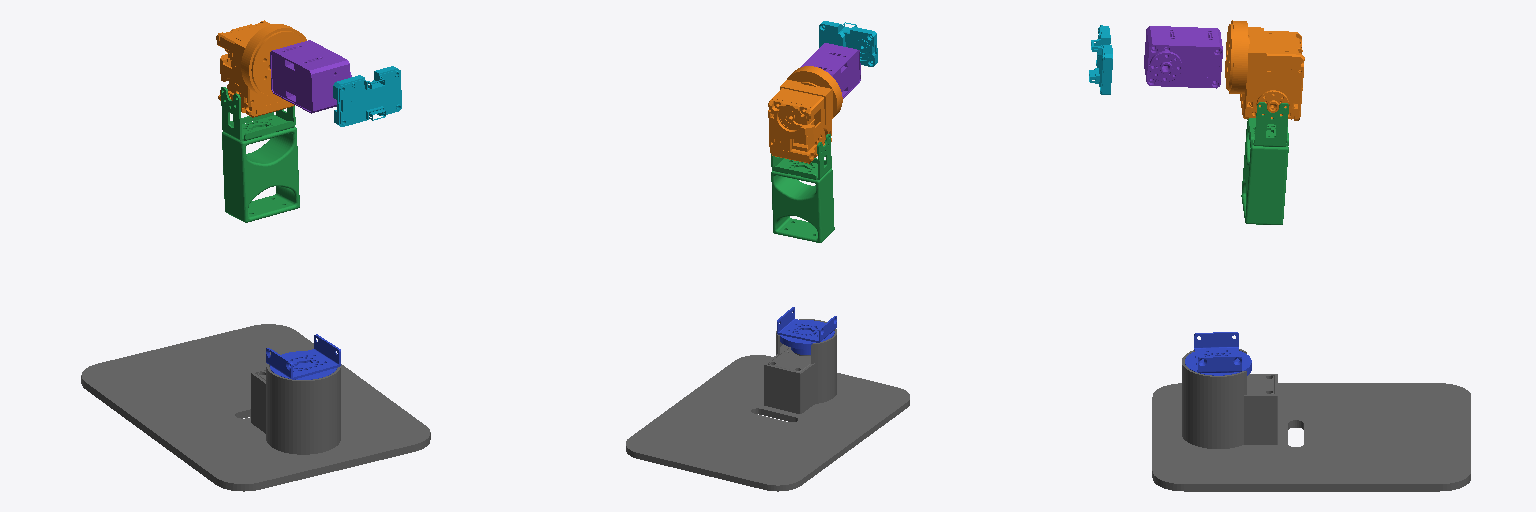
robot.urdf — robot_arm_fusion:
<?xml version="1.0"?>
<robot name="robot_arm_fusion">
  <material name="base_gray"><color rgba="0.45 0.45 0.45 1"/></material>
  <material name="yaw_blue"><color rgba="0.25 0.35 0.85 1"/></material>
  <material name="shoulder_green"><color rgba="0.2 0.65 0.35 1"/></material>
  <material name="upper_orange"><color rgba="0.95 0.55 0.15 1"/></material>
  <material name="forearm_purple"><color rgba="0.55 0.3 0.8 1"/></material>
  <material name="elbow_red"><color rgba="0.85 0.25 0.2 1"/></material>
  <material name="wrist_cyan"><color rgba="0.1 0.7 0.8 1"/></material>

  <link name="base_link">
    <inertial>
      <origin xyz="0 0 0" rpy="0 0 0"/>
      <mass value="0.1"/>
      <inertia ixx="0.0001" ixy="0" ixz="0" iyy="0.0001" iyz="0" izz="0.0001"/>
    </inertial>
    <visual>
      <origin xyz="-0.075 -0.0413 0" rpy="0 -0 0"/>
      <geometry><mesh filename="../cad/exports/fusion_meshes/arm_plate_v2_1.stl" scale="0.001 0.001 0.001"/></geometry>
      <material name="base_gray"/>
    </visual>
    <visual>
      <origin xyz="0.00015 -5e-05 0.022" rpy="-1.57772e-30 2.9525e-15 -3.14159"/>
      <geometry><mesh filename="../cad/exports/fusion_meshes/XM_H-430_idler_1_DUMMY_DC12_1.stl" scale="0.001 0.001 0.001"/></geometry>
      <material name="base_gray"/>
    </visual>
  </link>

  <link name="base_yaw_link">
    <inertial>
      <origin xyz="0 0 0" rpy="0 0 0"/>
      <mass value="0.1"/>
      <inertia ixx="0.0001" ixy="0" ixz="0" iyy="0.0001" iyz="0" izz="0.0001"/>
    </inertial>
    <visual>
      <origin xyz="3.15722e-30 -3.44974e-30 0.055" rpy="-3.14159 -1.58916e-17 -3.08048"/>
      <geometry><mesh filename="../cad/exports/fusion_meshes/arm_thrustA_1.stl" scale="0.001 0.001 0.001"/></geometry>
      <material name="yaw_blue"/>
    </visual>
    <visual>
      <origin xyz="2.45604e-16 1.19547e-16 0.0745" rpy="-3.14159 -2.05163e-15 -3.08048"/>
      <geometry><mesh filename="../cad/exports/fusion_meshes/fr12_s102_k_1.stl" scale="0.001 0.001 0.001"/></geometry>
      <material name="yaw_blue"/>
    </visual>
    <visual>
      <origin xyz="6.33757e-17 1.62178e-16 0.0955" rpy="1.5708 1.18611e-16 1.6319"/>
      <geometry><mesh filename="../cad/exports/fusion_meshes/XM_H-430_idler_2_DUMMY_DC12_1.stl" scale="0.001 0.001 0.001"/></geometry>
      <material name="yaw_blue"/>
    </visual>
  </link>

  <link name="shoulder_pitch_link">
    <inertial>
      <origin xyz="0 0 0" rpy="0 0 0"/>
      <mass value="0.1"/>
      <inertia ixx="0.0001" ixy="0" ixz="0" iyy="0.0001" iyz="0" izz="0.0001"/>
    </inertial>
    <visual>
      <origin xyz="-0.0131998 0.0237966 0.0161501" rpy="1.5019 2.11287e-15 0.061108"/>
      <geometry><mesh filename="../cad/exports/fusion_meshes/fr12_h101_k_1.stl" scale="0.001 0.001 0.001"/></geometry>
      <material name="shoulder_green"/>
    </visual>
    <visual>
      <origin xyz="-0.0347374 0.0401283 0.0971295" rpy="-1.85646e-14 1.5019 -1.50969"/>
      <geometry><mesh filename="../cad/exports/fusion_meshes/arm_part1_1.stl" scale="0.001 0.001 0.001"/></geometry>
      <material name="shoulder_green"/>
    </visual>
    <visual>
      <origin xyz="-0.0136622 0.031355 0.125889" rpy="-1.63969 2.96123e-16 0.061108"/>
      <geometry><mesh filename="../cad/exports/fusion_meshes/fr12_h101_k_2.stl" scale="0.001 0.001 0.001"/></geometry>
      <material name="shoulder_green"/>
    </visual>
  </link>

  <link name="upper_arm_link">
    <inertial>
      <origin xyz="0 0 0" rpy="0 0 0"/>
      <mass value="0.1"/>
      <inertia ixx="0.0001" ixy="0" ixz="0" iyy="0.0001" iyz="0" izz="0.0001"/>
    </inertial>
    <visual>
      <origin xyz="-3.26607e-05 0.000378369 0.00596068" rpy="1.5019 2.51529e-16 0.061108"/>
      <geometry><mesh filename="../cad/exports/fusion_meshes/2XC-430_1_DC14_A01_REF_1.stl" scale="0.001 0.001 0.001"/></geometry>
      <material name="upper_orange"/>
    </visual>
    <visual>
      <origin xyz="0.0155088 0.000501614 -0.00601085" rpy="-3.62933e-15 1.5019 -1.50969"/>
      <geometry><mesh filename="../cad/exports/fusion_meshes/2XC-430_1_DC11_A01_HORN_REF_ASM_1_DC11_A01_HORN_REF_1.stl" scale="0.001 0.001 0.001"/></geometry>
      <material name="upper_orange"/>
    </visual>
    <visual>
      <origin xyz="0.000862446 -0.0142514 0.0190006" rpy="1.5708 -1.5019 1.6319"/>
      <geometry><mesh filename="../cad/exports/fusion_meshes/2XC-430_1_DC11_A01_HORN_REF_ASM_2_DC11_A01_HORN_REF_1.stl" scale="0.001 0.001 0.001"/></geometry>
      <material name="upper_orange"/>
    </visual>
    <visual>
      <origin xyz="0.0011134 -0.0167154 0.0191614" rpy="1.5019 2.51323e-16 0.061108"/>
      <geometry><mesh filename="../cad/exports/fusion_meshes/arm_thrustC_1.stl" scale="0.001 0.001 0.001"/></geometry>
      <material name="upper_orange"/>
    </visual>
    <visual>
      <origin xyz="0.00165447 -0.0271963 0.0198956" rpy="-1.63969 -1.97853e-16 0.061108"/>
      <geometry><mesh filename="../cad/exports/fusion_meshes/arm_thrustB_1.stl" scale="0.001 0.001 0.001"/></geometry>
      <material name="upper_orange"/>
    </visual>
    <visual>
      <origin xyz="0.00284251 -0.0466137 0.021238" rpy="-1.63969 -1.83573e-16 0.061108"/>
      <geometry><mesh filename="../cad/exports/fusion_meshes/fr12_s102_k_2.stl" scale="0.001 0.001 0.001"/></geometry>
      <material name="upper_orange"/>
    </visual>
  </link>

  <link name="forearm_link">
    <inertial>
      <origin xyz="0 0 0" rpy="0 0 0"/>
      <mass value="0.1"/>
      <inertia ixx="0.0001" ixy="0" ixz="0" iyy="0.0001" iyz="0" izz="0.0001"/>
    </inertial>
    <visual>
      <origin xyz="-0.00777806 -0.000424807 -1.63223e-05" rpy="1.5708 -1.5019 1.6319"/>
      <geometry><mesh filename="../cad/exports/fusion_meshes/XC-430_idle_1_DC11_B01_CASE_M_DUMMY_1.stl" scale="0.001 0.001 0.001"/></geometry>
      <material name="forearm_purple"/>
    </visual>
    <visual>
      <origin xyz="-0.00777806 -0.000424807 -1.63223e-05" rpy="1.5708 -1.5019 1.6319"/>
      <geometry><mesh filename="../cad/exports/fusion_meshes/XC-430_idle_1_DC11_B01_CASE_F_DUMMY_1.stl" scale="0.001 0.001 0.001"/></geometry>
      <material name="forearm_purple"/>
    </visual>
    <visual>
      <origin xyz="-0.00777806 -0.000424807 -1.63223e-05" rpy="1.5708 -1.5019 1.6319"/>
      <geometry><mesh filename="../cad/exports/fusion_meshes/XC-430_idle_1_DC11_B01_CASE_B_DUMMY2_1.stl" scale="0.001 0.001 0.001"/></geometry>
      <material name="forearm_purple"/>
    </visual>
    <visual>
      <origin xyz="0.00769301 0.000521777 -1.63223e-05" rpy="-6.34185e-14 -0.0688963 -1.50969"/>
      <geometry><mesh filename="../cad/exports/fusion_meshes/XC-430_idle_1_M_DC11_A01_HORN_ASM_1_M_DC11_A01_HORN_1.stl" scale="0.001 0.001 0.001"/></geometry>
      <material name="forearm_purple"/>
    </visual>
    <visual>
      <origin xyz="-0.0264834 -0.0303827 -0.0100603" rpy="1.5019 6.32561e-14 0.061108"/>
      <geometry><mesh filename="../cad/exports/fusion_meshes/arm_hand_v2_1.stl" scale="0.001 0.001 0.001"/></geometry>
      <material name="forearm_purple"/>
    </visual>
    <visual>
      <origin xyz="-0.00777806 -0.000424807 -1.63223e-05" rpy="0.0688963 -6.3055e-14 -3.08048"/>
      <geometry><mesh filename="../cad/exports/fusion_meshes/fr12_h101_k_3.stl" scale="0.001 0.001 0.001"/></geometry>
      <material name="forearm_purple"/>
    </visual>
  </link>

  <link name="elbow_roll_link">
    <inertial>
      <origin xyz="0 0 0" rpy="0 0 0"/>
      <mass value="0.1"/>
      <inertia ixx="0.0001" ixy="0" ixz="0" iyy="0.0001" iyz="0" izz="0.0001"/>
    </inertial>
  </link>

  <link name="wrist_pitch_link">
    <inertial>
      <origin xyz="0 0 0" rpy="0 0 0"/>
      <mass value="0.1"/>
      <inertia ixx="0.0001" ixy="0" ixz="0" iyy="0.0001" iyz="0" izz="0.0001"/>
    </inertial>
    <visual>
      <origin xyz="-0.00050996 0.00769539 -0.000536548" rpy="9.26811e-13 -1.5019 1.6319"/>
      <geometry><mesh filename="../cad/exports/fusion_meshes/XC-430_idle_2_DC11_B01_CASE_M_DUMMY_1.stl" scale="0.001 0.001 0.001"/></geometry>
      <material name="wrist_cyan"/>
    </visual>
    <visual>
      <origin xyz="-0.00050996 0.00769539 -0.000536548" rpy="9.26846e-13 -1.5019 1.6319"/>
      <geometry><mesh filename="../cad/exports/fusion_meshes/XC-430_idle_2_DC11_B01_CASE_F_DUMMY_1.stl" scale="0.001 0.001 0.001"/></geometry>
      <material name="wrist_cyan"/>
    </visual>
    <visual>
      <origin xyz="-0.00050996 0.00769539 -0.000536548" rpy="9.26805e-13 -1.5019 1.6319"/>
      <geometry><mesh filename="../cad/exports/fusion_meshes/XC-430_idle_2_DC11_B01_CASE_B_DUMMY2_1.stl" scale="0.001 0.001 0.001"/></geometry>
      <material name="wrist_cyan"/>
    </visual>
    <visual>
      <origin xyz="0.000434379 -0.00773898 0.000530501" rpy="0.0688963 -6.54787e-14 -3.08048"/>
      <geometry><mesh filename="../cad/exports/fusion_meshes/XC-430_idle_2_M_DC11_A01_HORN_ASM_1_M_DC11_A01_HORN_1.stl" scale="0.001 0.001 0.001"/></geometry>
      <material name="wrist_cyan"/>
    </visual>
  </link>

  <joint name="base_yaw_joint" type="revolute">
    <parent link="base_link"/>
    <child link="base_yaw_link"/>
    <origin xyz="0 0 0" rpy="0 0 0"/>
    <axis xyz="0 0 1"/>
    <limit lower="-3.14159" upper="3.14159" effort="2.0" velocity="1.0"/>
  </joint>

  <joint name="shoulder_pitch_joint" type="revolute">
    <parent link="base_yaw_link"/>
    <child link="shoulder_pitch_link"/>
    <origin xyz="-0.00005 0.00174 0.10826" rpy="0 0 0"/>
    <axis xyz="1 0 0"/>
    <limit lower="-1.5708" upper="1.5708" effort="2.0" velocity="1.0"/>
  </joint>

  <joint name="upper_arm_roll_joint" type="revolute">
    <parent link="shoulder_pitch_link"/>
    <child link="upper_arm_link"/>
    <origin xyz="-0.0137 0.0318 0.1319" rpy="0 0 0"/>
    <axis xyz="0 0 -1"/>
    <limit lower="-1.5708" upper="1.5708" effort="2.0" velocity="1.0"/>
  </joint>

  <joint name="elbow_pitch_joint" type="revolute">
    <parent link="upper_arm_link"/>
    <child link="forearm_link"/>
    <origin xyz="0.0119 -0.0671 0.0227" rpy="0 0 0"/>
    <axis xyz="0 1 0"/>
    <limit lower="-1.5708" upper="1.5708" effort="2.0" velocity="1.0"/>
  </joint>

  <joint name="elbow_roll_joint" type="revolute">
    <parent link="forearm_link"/>
    <child link="elbow_roll_link"/>
    <origin xyz="-0.0078 -0.0004 0" rpy="0 0 0"/>
    <axis xyz="-1 0 0"/>
    <limit lower="-1.5708" upper="1.5708" effort="2.0" velocity="1.0"/>
  </joint>

  <joint name="wrist_pitch_joint" type="revolute">
    <parent link="elbow_roll_link"/>
    <child link="wrist_pitch_link"/>
    <origin xyz="0.0037 -0.0595 0.0041" rpy="0 0 0"/>
    <axis xyz="0 1 0"/>
    <limit lower="-1.5708" upper="1.5708" effort="2.0" velocity="1.0"/>
  </joint>

</robot>

--- Facts derived from the render (not from the file) ---
The picture shows the robot from 3 angles, left to right: view 1: azimuth 30°, elevation 25°; view 2: azimuth 150°, elevation 25°; view 3: azimuth 270°, elevation 25°; orthographic projection.
Model robot_arm_fusion with 7 links and 6 joints (6 revolute), rooted at base_link, posed every joint at zero.
Links seen in each view (by area): view 1: base_link, shoulder_pitch_link, upper_arm_link, forearm_link, wrist_pitch_link, base_yaw_link; view 2: base_link, upper_arm_link, shoulder_pitch_link, forearm_link, base_yaw_link, wrist_pitch_link; view 3: base_link, upper_arm_link, shoulder_pitch_link, forearm_link, base_yaw_link, wrist_pitch_link.
Link boxes in pixels (x1,y1,x2,y2): base_link: (81, 324, 430, 491); shoulder_pitch_link: (221, 87, 299, 222); upper_arm_link: (216, 20, 306, 117); forearm_link: (270, 40, 351, 113); wrist_pitch_link: (333, 66, 401, 126); base_yaw_link: (266, 334, 340, 379); base_link: (626, 319, 909, 491); upper_arm_link: (768, 66, 842, 163); shoulder_pitch_link: (771, 134, 834, 242); forearm_link: (800, 43, 860, 98); base_yaw_link: (777, 307, 836, 354); wrist_pitch_link: (819, 21, 877, 66); base_link: (1152, 349, 1470, 491); upper_arm_link: (1225, 20, 1304, 120); shoulder_pitch_link: (1241, 102, 1288, 224); forearm_link: (1144, 26, 1222, 88); base_yaw_link: (1185, 332, 1251, 375); wrist_pitch_link: (1089, 25, 1112, 94).
Bounding box of the posed robot: 0.15 × 0.2401 × 0.2829 m (x, y, z).
14 mesh visuals loaded from 24 distinct referenced files (14 binary STL); not drawn: 10 (reference not matched to a file when rendering).
